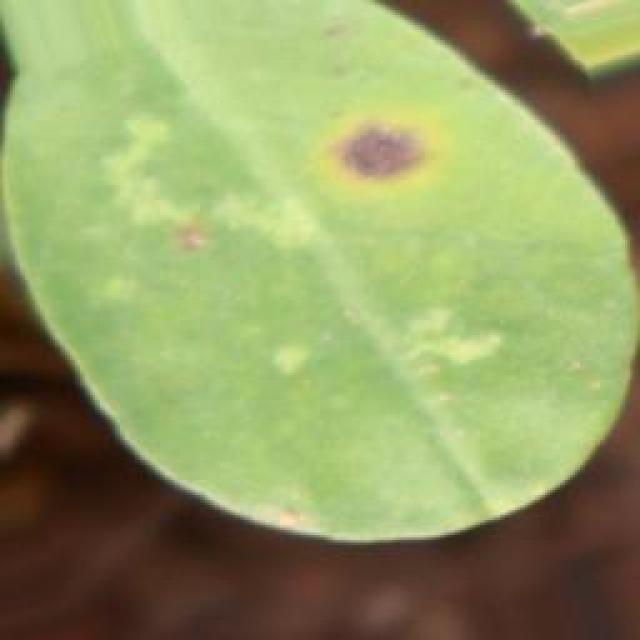Sigatoka: (319, 88, 481, 215), (170, 204, 250, 306)
